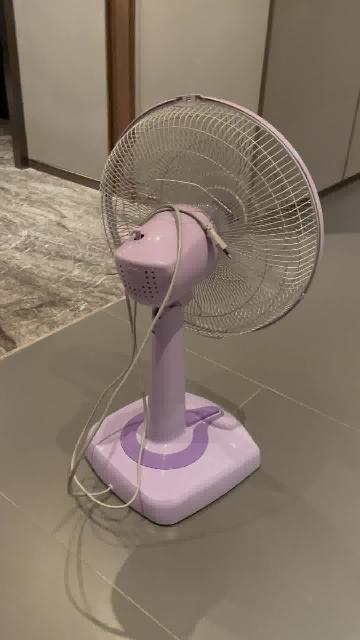Fan: (84, 95, 323, 528)
